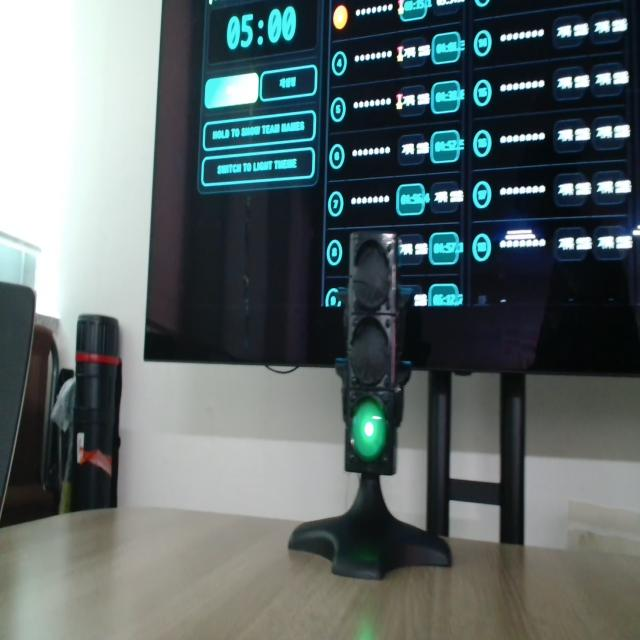green_light: (352, 398, 386, 462)
